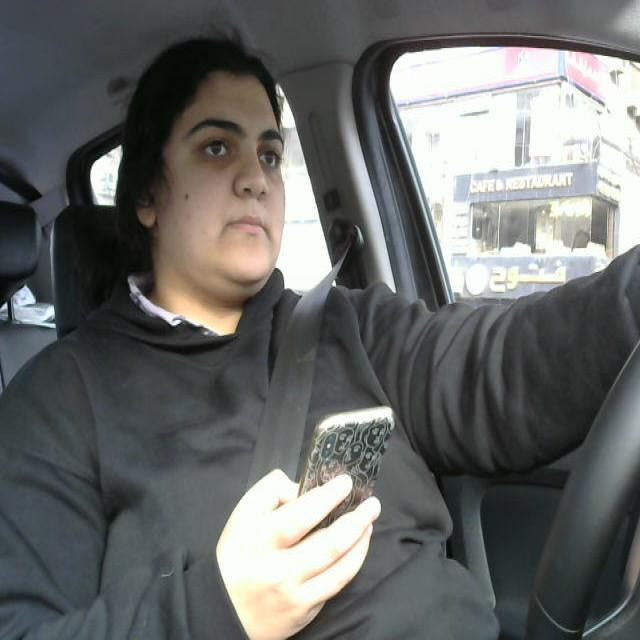mobile use: (293, 406, 401, 556)
